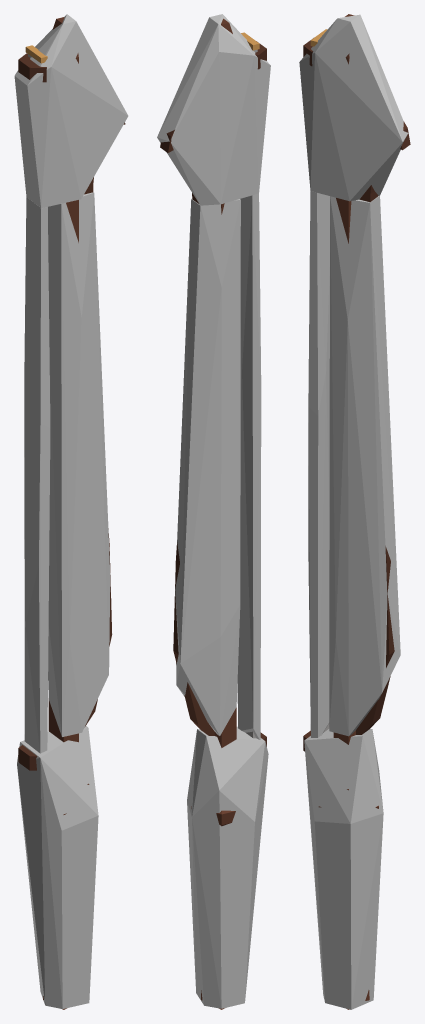
File: SM_Item_Instrument_Bow_01.fbx
3 renders of one model, left to right at view 1: azimuth 30°, elevation 25°; view 2: azimuth 210°, elevation 25°; view 3: azimuth 330°, elevation 25°, orthographic.
Parts seen in each view (by area): view 1: SM_Item_Instrument_Bow_01_ConvexHulls, SM_Item_Instrument_Bow_01; view 2: SM_Item_Instrument_Bow_01_ConvexHulls, SM_Item_Instrument_Bow_01; view 3: SM_Item_Instrument_Bow_01_ConvexHulls, SM_Item_Instrument_Bow_01.
Boxes of the visible parts, x1,y1,x2,y2 form: SM_Item_Instrument_Bow_01_ConvexHulls: (14, 14, 128, 1008); SM_Item_Instrument_Bow_01: (18, 17, 125, 1009); SM_Item_Instrument_Bow_01_ConvexHulls: (157, 14, 270, 1008); SM_Item_Instrument_Bow_01: (160, 18, 266, 1009); SM_Item_Instrument_Bow_01_ConvexHulls: (299, 14, 408, 1009); SM_Item_Instrument_Bow_01: (303, 14, 410, 1009).
Size of the model in its own units: 10 by 5.57 by 92.72.
2 materials, 1 textured.
